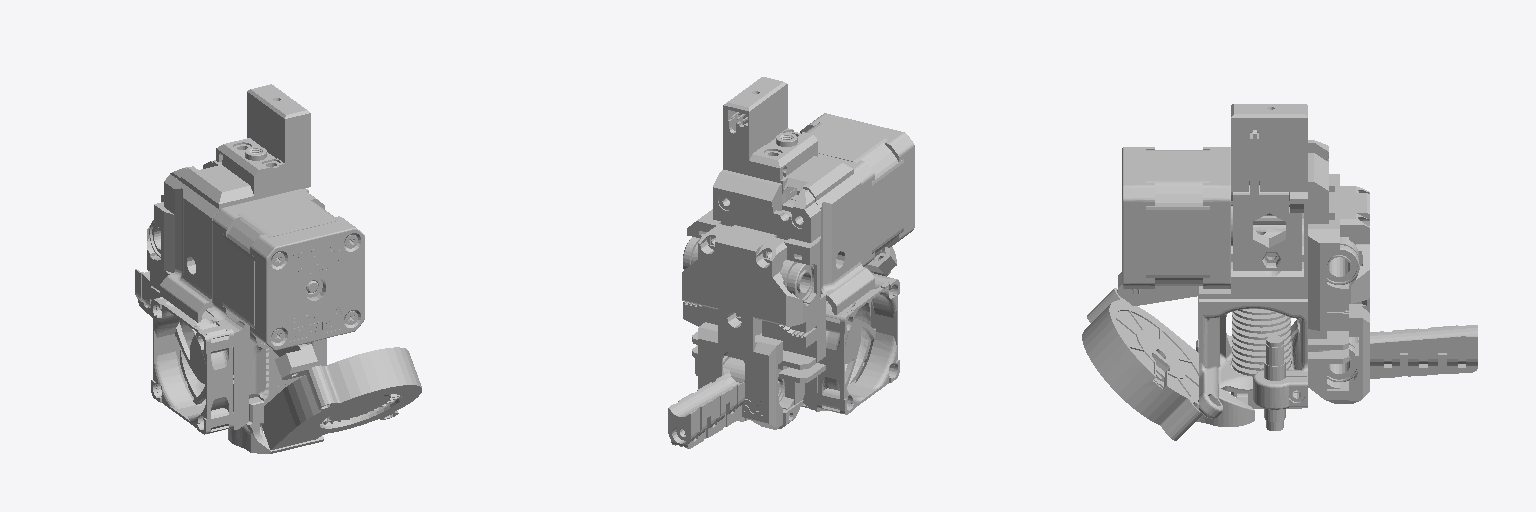
File: X_AXIS.obj
3 views of the same model, side by side, from view 1: azimuth 30°, elevation 25°; view 2: azimuth 150°, elevation 25°; view 3: azimuth 270°, elevation 25° (orthographic).
Size of the model in its own units: 76.99 by 126 by 145.